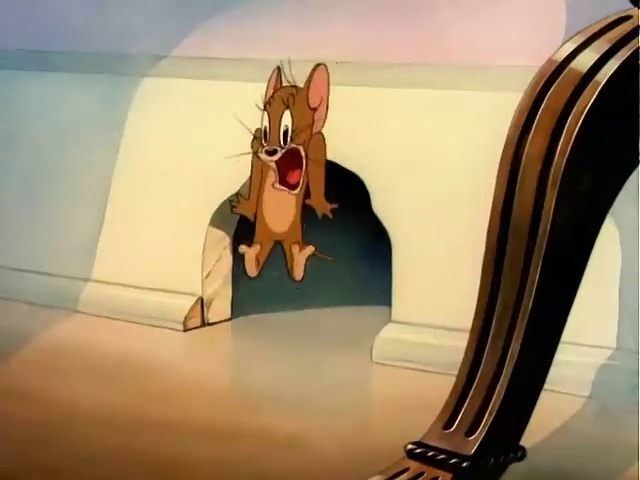jerry: (175, 58, 360, 295)
